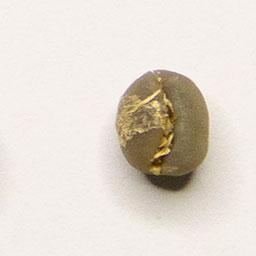peaberry: (112, 66, 213, 180)
